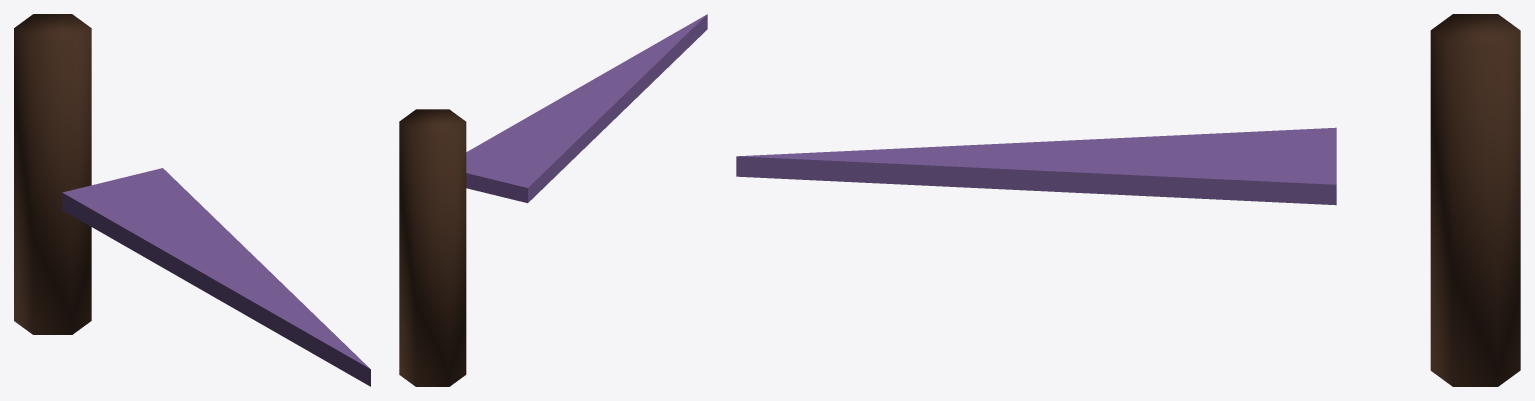
Rendered from chain_guillotines.glb.
3 renders of one model, left to right at view 1: azimuth 30°, elevation 25°; view 2: azimuth 150°, elevation 25°; view 3: azimuth 270°, elevation 25°, orthographic. The views are drawn at different scales.
Visible parts, largest first — view 1: chain_guillotines_v0; view 2: chain_guillotines_v0; view 3: chain_guillotines_v0.
Part boxes in pixels (<box>): chain_guillotines_v0: <box>14,14,370,386</box>; chain_guillotines_v0: <box>399,14,707,386</box>; chain_guillotines_v0: <box>736,14,1520,386</box>.
Bounding box in the file's own units: 0.036 × 0.1 × 0.209.
